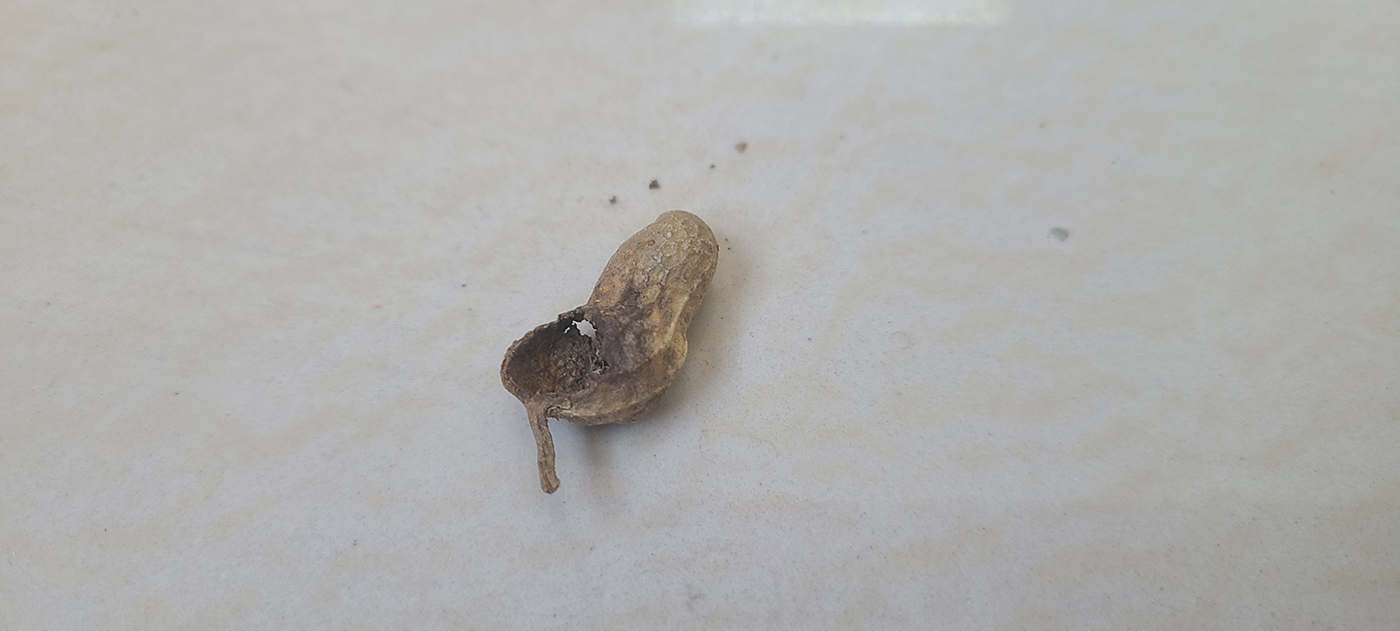l: (501, 211, 723, 434)
